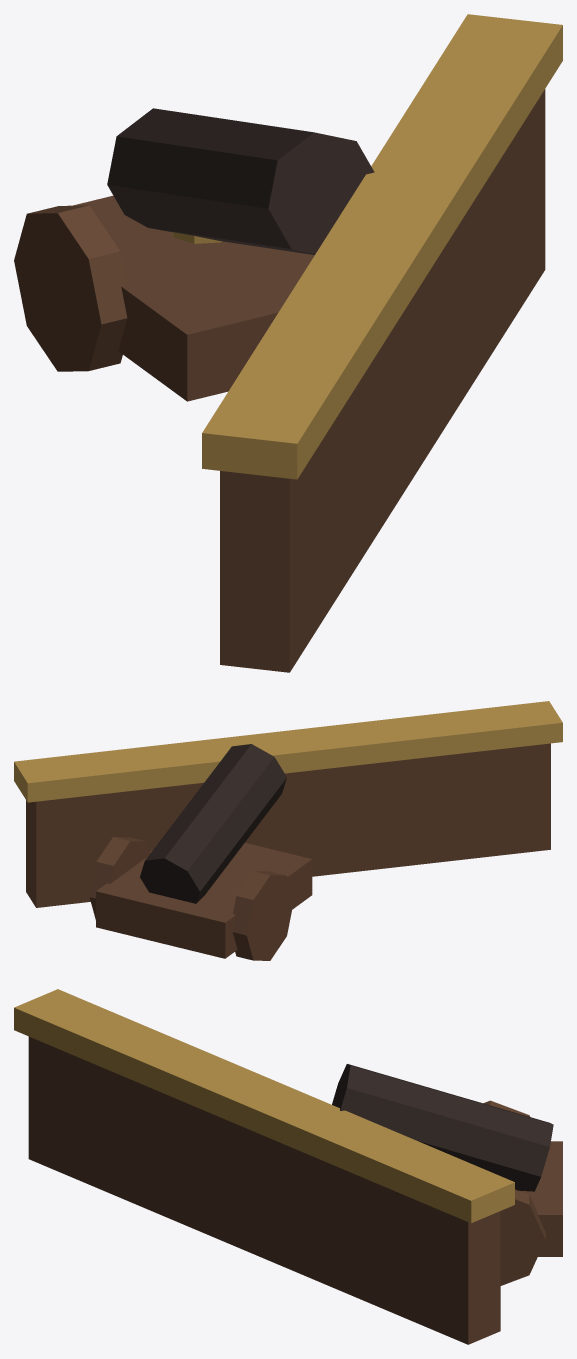
The model's file is PirateCove_CannonBank_Simple.glb.
The picture shows the model from 3 angles, top to bottom: view 1: azimuth 30°, elevation 25°; view 2: azimuth 150°, elevation 25°; view 3: azimuth 270°, elevation 25°; orthographic projection. The views are drawn at different scales.
Parts seen in each view (by area): view 1: PirateCove_CannonBank_Simple; view 2: PirateCove_CannonBank_Simple; view 3: PirateCove_CannonBank_Simple.
Boxes of the visible parts, bbox=[...] form: PirateCove_CannonBank_Simple: bbox=[14, 14, 562, 672]; PirateCove_CannonBank_Simple: bbox=[14, 701, 562, 960]; PirateCove_CannonBank_Simple: bbox=[14, 989, 562, 1344].
Size of the model in its own units: 2.42 by 0.9566 by 2.65.
